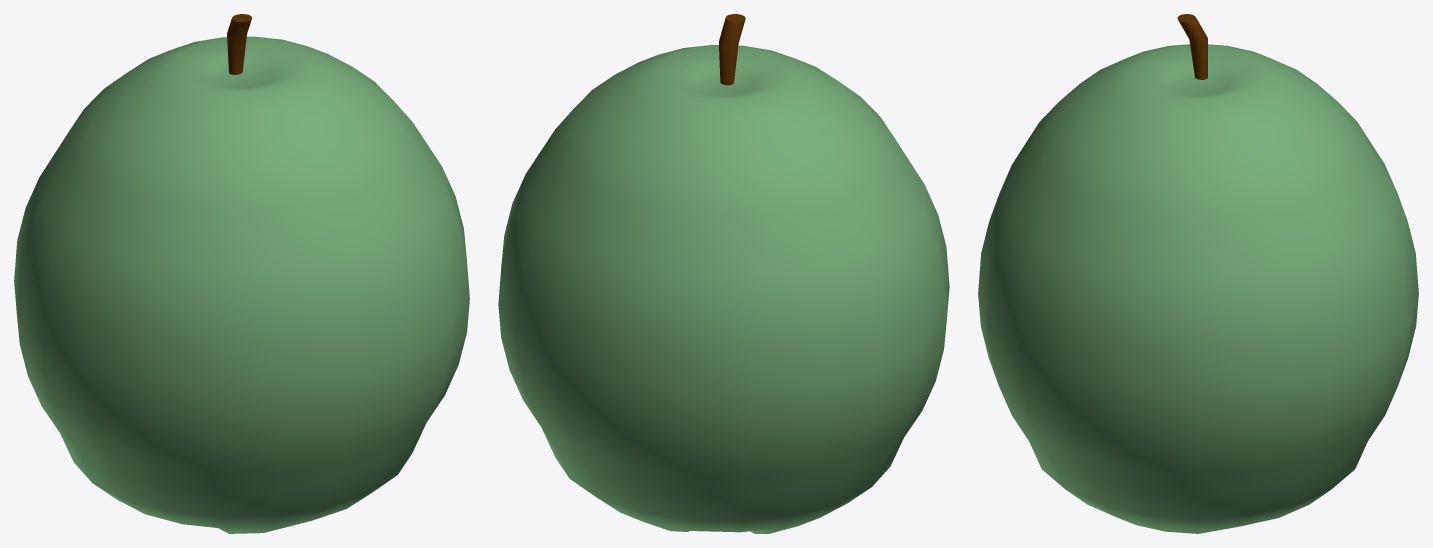
Rendered from fruittextured.fbx.
The picture shows the model from 3 angles, left to right: view 1: azimuth 30°, elevation 25°; view 2: azimuth 150°, elevation 25°; view 3: azimuth 270°, elevation 25°; orthographic projection.
Parts seen in each view (by area): view 1: pSphere2; view 2: pSphere2; view 3: pSphere2.
Boxes of the visible parts, x1,y1,x2,y2 form: pSphere2: (14,14,469,533); pSphere2: (498,14,949,533); pSphere2: (978,14,1418,533).
Bounding box in the file's own units: 1.71 × 2 × 1.67.
